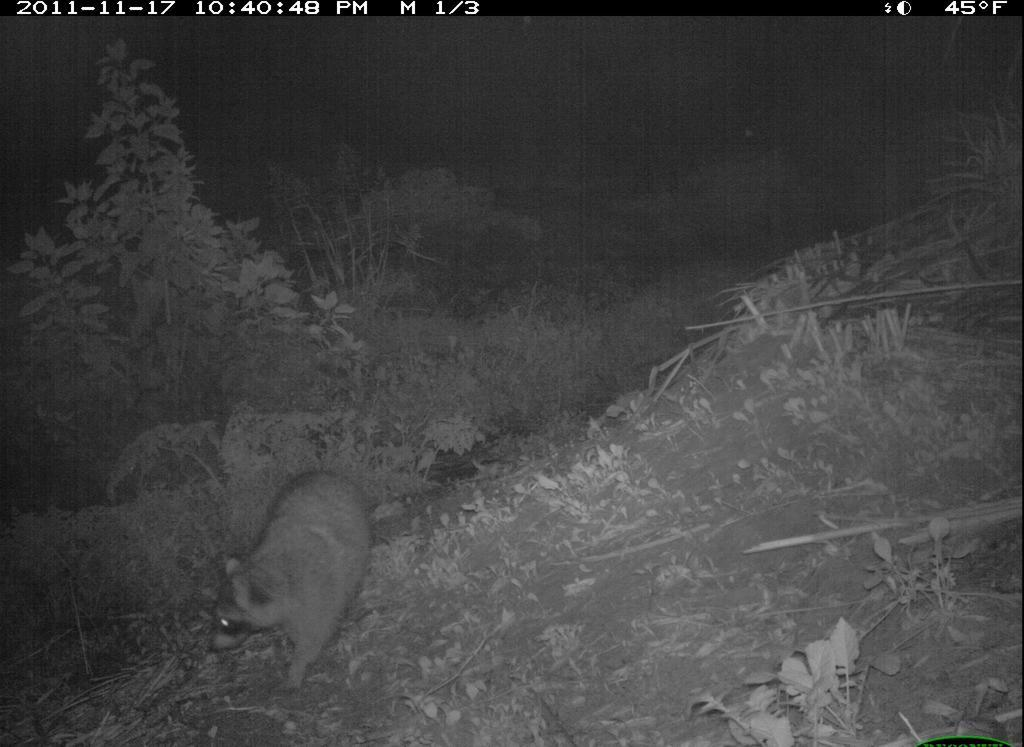raccoon: (195, 463, 385, 701)
